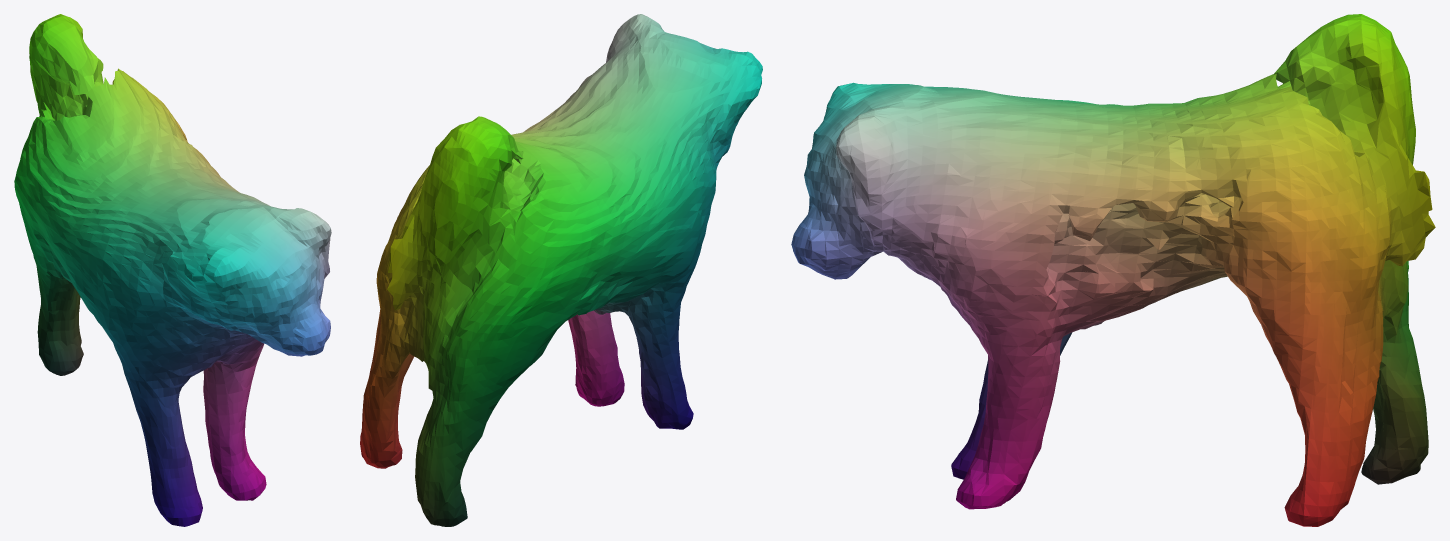
The model's file is shiba-haru-1001-mesh-00005.obj.
The picture shows the model from 3 angles, left to right: view 1: azimuth 30°, elevation 25°; view 2: azimuth 150°, elevation 25°; view 3: azimuth 270°, elevation 25°; orthographic projection. The views are drawn at different scales.
Size of the model in its own units: 0.0533 by 0.095 by 0.116.
